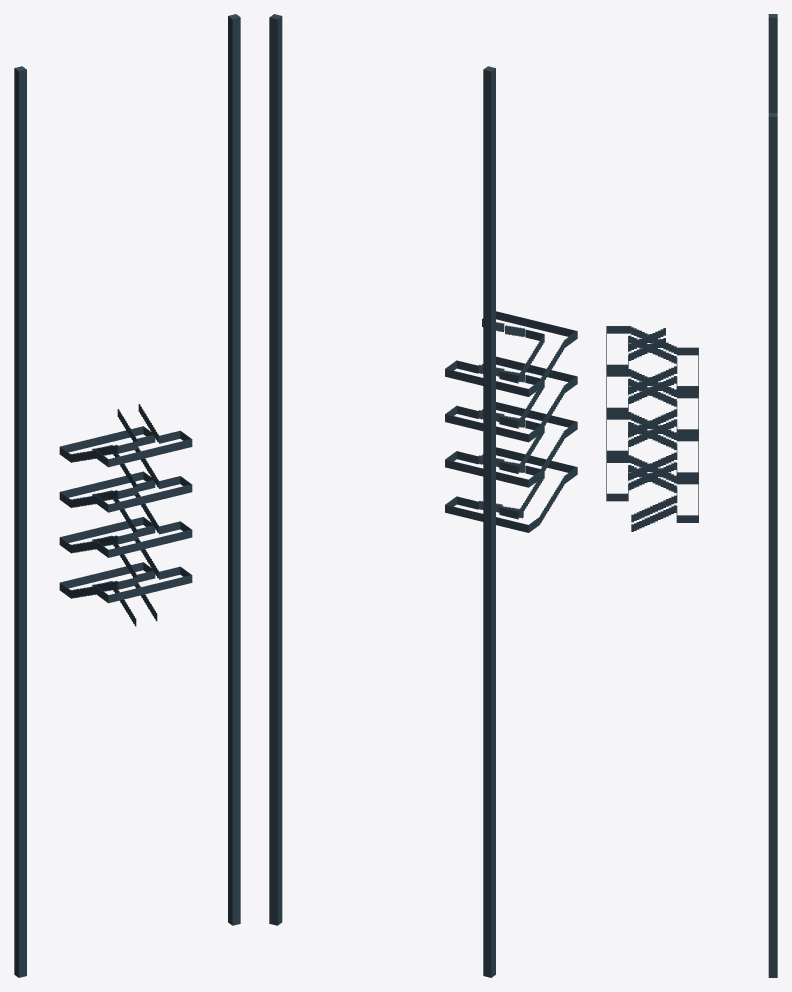
The model's file is v02-02-03-steel.glb.
3 renders of one model, left to right at view 1: azimuth 30°, elevation 25°; view 2: azimuth 150°, elevation 25°; view 3: azimuth 270°, elevation 25°, orthographic. The views are drawn at different scales.
Parts seen in each view (by area): view 1: v02-02-03-steel; view 2: v02-02-03-steel; view 3: v02-02-03-steel.
Part boxes in pixels (x1,y1,x2,y2): v02-02-03-steel: [14, 14, 240, 977]; v02-02-03-steel: [269, 14, 577, 977]; v02-02-03-steel: [606, 14, 777, 977].
Size of the model in its own units: 32.8 by 128 by 23.08.
